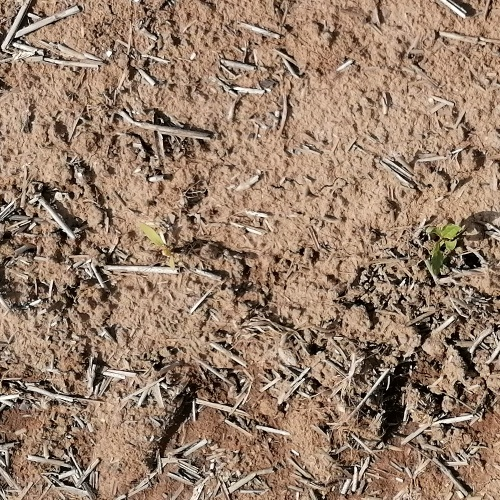beet: (424, 224, 462, 275), (141, 222, 173, 256)
